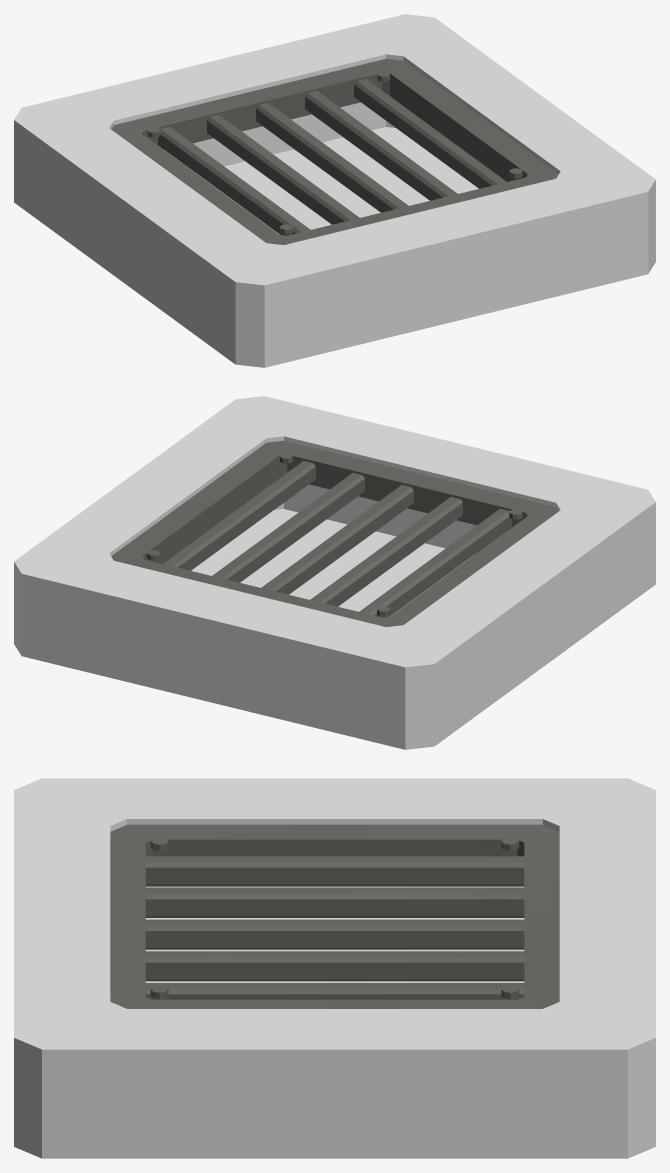
The model's file is WarrensC_CCS88_FloorDrainAndGrille_Mars_SM.fbx.
The picture shows the model from 3 angles, top to bottom: view 1: azimuth 30°, elevation 25°; view 2: azimuth 150°, elevation 25°; view 3: azimuth 270°, elevation 25°; orthographic projection. The views are drawn at different scales.
Parts seen in each view (by area): view 1: WarrensC_CCS88_FloorDrainAndGrille_Mars_SM.001; view 2: WarrensC_CCS88_FloorDrainAndGrille_Mars_SM.001; view 3: WarrensC_CCS88_FloorDrainAndGrille_Mars_SM.001.
Boxes of the visible parts, box(x1,y1,x2,y2) form: WarrensC_CCS88_FloorDrainAndGrille_Mars_SM.001: box(14, 14, 655, 367); WarrensC_CCS88_FloorDrainAndGrille_Mars_SM.001: box(14, 396, 655, 749); WarrensC_CCS88_FloorDrainAndGrille_Mars_SM.001: box(14, 778, 655, 1158).
Size of the model in its own units: 80 by 80 by 15.
